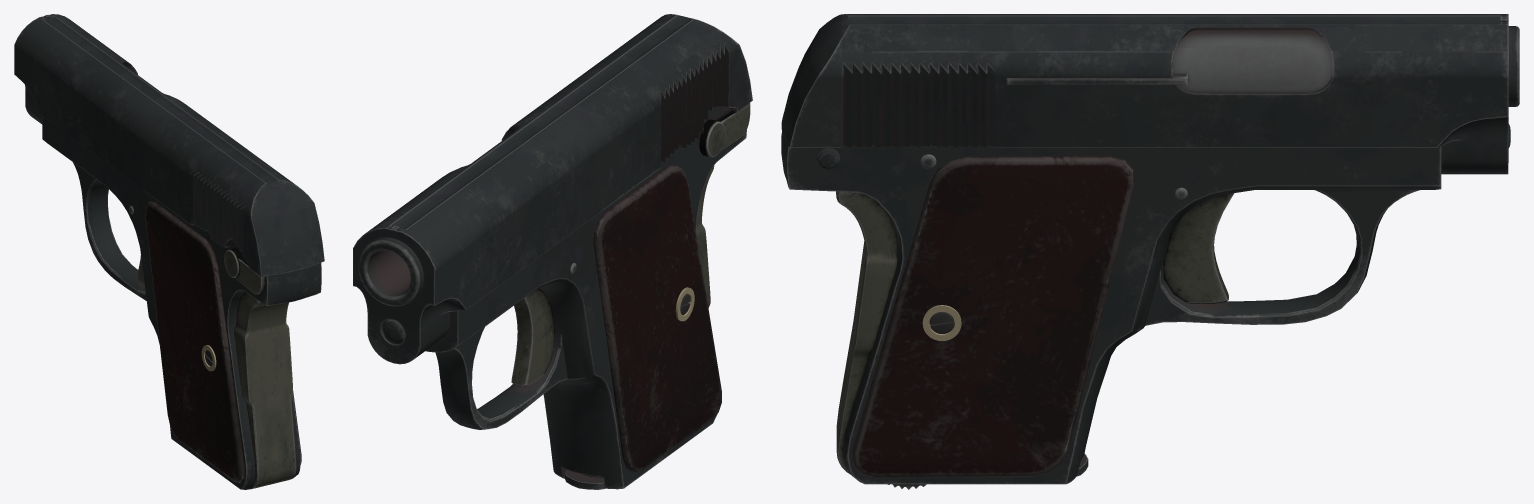
The model's file is sns.glb.
3 renders of one model, left to right at view 1: azimuth 30°, elevation 25°; view 2: azimuth 150°, elevation 25°; view 3: azimuth 270°, elevation 25°, orthographic. The views are drawn at different scales.
Visible parts, largest first — view 1: Colt 1908; view 2: Colt 1908; view 3: Colt 1908.
Part boxes in pixels (x1,y1,x2,y2): Colt 1908: [14, 14, 324, 489]; Colt 1908: [353, 14, 752, 489]; Colt 1908: [781, 14, 1519, 489].
Bounding box in the file's own units: 0.0335 × 0.1523 × 0.2228.
1 material, 1 textured.
